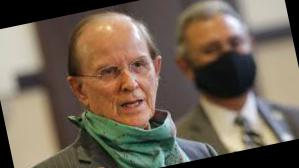mask_weared_incorrect: (85, 44, 172, 145)
with_mask: (188, 28, 264, 101)
